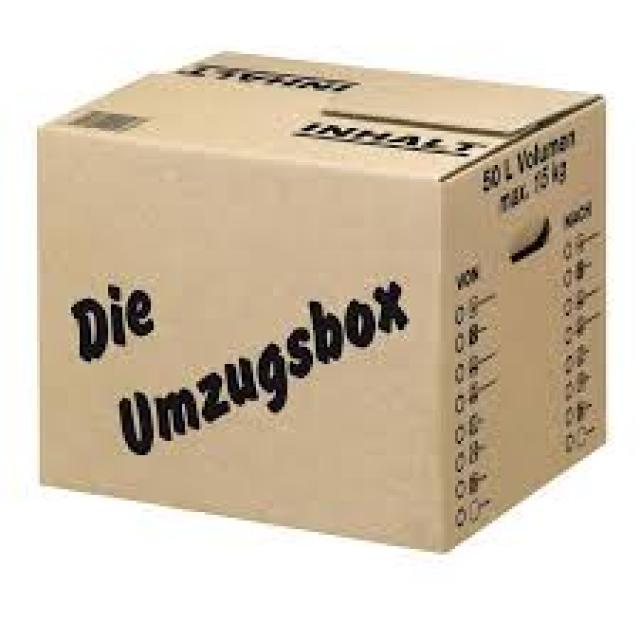cardboard: (31, 48, 603, 549)
